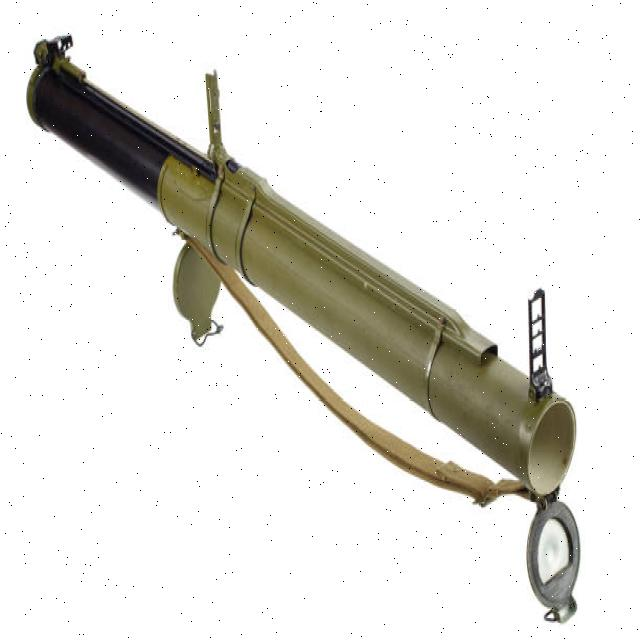bazooka: (22, 24, 597, 636)
